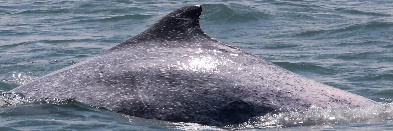fin: (5, 1, 377, 129)
